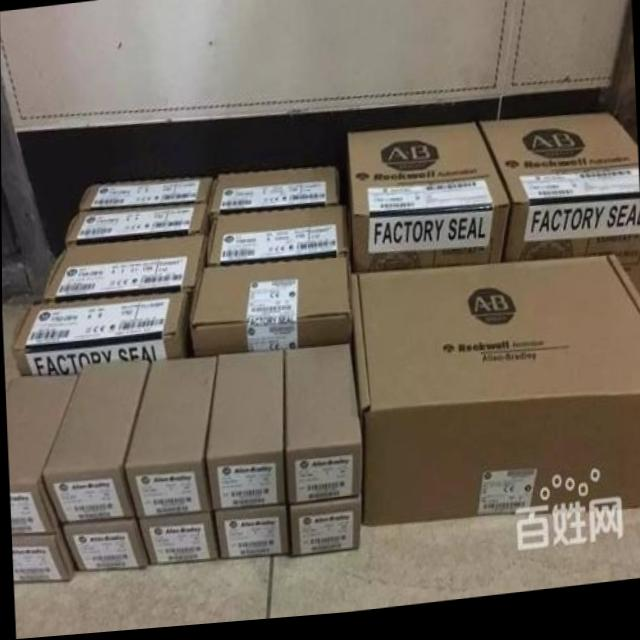box: (354, 258, 640, 529), (480, 121, 640, 306), (348, 129, 510, 277), (37, 357, 149, 525), (192, 258, 352, 357), (123, 356, 220, 519), (7, 294, 191, 374), (204, 351, 284, 513), (282, 348, 361, 508), (7, 374, 78, 537), (39, 237, 204, 299), (203, 208, 351, 267), (207, 172, 338, 215), (65, 207, 208, 243), (60, 516, 150, 570), (135, 512, 218, 569), (283, 500, 357, 558), (210, 507, 288, 561), (81, 181, 214, 211), (12, 525, 77, 581)
